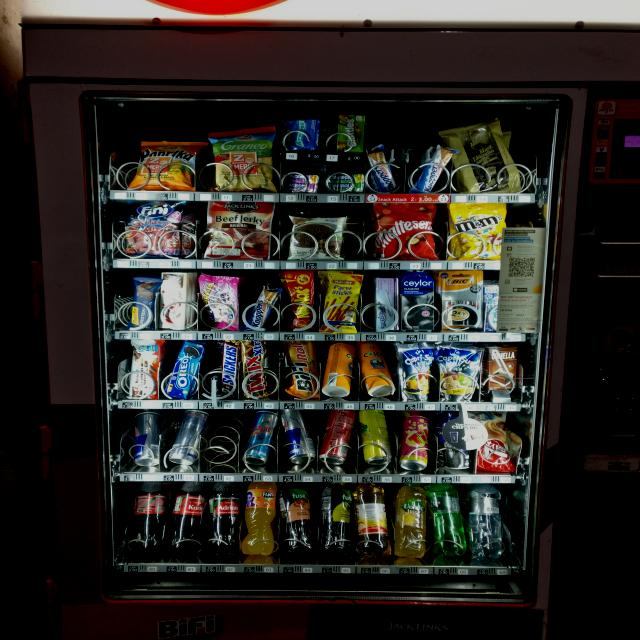7days_croissantschoko_packung_80_1_0000000000003: (478, 411, 515, 471)
airwaves_menthoneucalyptus_riegel_14_1_50173167: (292, 118, 319, 148)
berger_bruensli____: (284, 210, 350, 260)
bifi_roll__50__4251097402635: (284, 340, 320, 398)
bueno___43__4008400320328: (125, 337, 163, 396)
c-swiss_dosenabisicetea__33__9120025930135: (357, 340, 396, 398), (320, 341, 357, 396)
caprisun_multivitamin__20__4000177605004: (392, 342, 437, 401), (434, 342, 478, 400)
coke__dose_33__54491472: (315, 407, 357, 465)
coke__flasche_50__54491472: (130, 478, 167, 553), (168, 480, 205, 553)
coke_zero_flasche_50__5449000131836: (206, 480, 244, 553)
comella_schokodrink__33__7613100037253: (483, 344, 518, 396)
fanta___50__40822938: (242, 481, 278, 554)
fini_galaxymix_packung_100_1_8410525150364: (130, 202, 193, 255)
fini_jellykisses_packung_80_1_8410525116704: (197, 274, 241, 324)
fuse_lemon__50__5449000235947: (316, 482, 355, 557)
fuse_lemon_dose_33__5449000235947: (361, 410, 393, 462)
fuse_peach__50__5449000236623: (275, 482, 316, 558)
jacklinks_beefjerkyorginal__25__4047751730219: (206, 198, 275, 257)
jlbrichard_gauffrechoko__90__5410495002079: (452, 124, 521, 189)
kagi___50__7610046000259: (154, 270, 191, 330)
knoppers_riegel____4035800488808: (411, 146, 454, 192), (367, 147, 399, 191), (246, 286, 278, 328)
lorenz_nicnacs__40__4018077798818: (280, 268, 318, 328)
malburner_partysticks__40__7610200279682: (319, 270, 360, 332)
maltesers___100__5000159023061: (371, 201, 438, 257)
mnms_gelb__45__40111445: (447, 202, 506, 256)
oreo___66__84100733: (164, 338, 203, 396)
powerbar_proteinplusschoko__55__4029679520028: (131, 274, 158, 330)
ramseier_schorle__50__7610057012456: (355, 483, 389, 559)
redbull___33__90162909: (277, 406, 317, 466), (165, 408, 204, 468), (129, 410, 163, 466)
redbull_light__33__90162800: (242, 410, 275, 464)
skittles_sour_riegel_51_1_: (339, 110, 365, 152)
snickers___50__5000159461122: (216, 337, 240, 398)
stimorol_spearmint_riegel_14_1_: (328, 169, 366, 193)
stimorol_wildcherry_riegel_14_1_57060330: (288, 174, 318, 195)
tiki_himbeerbrause_dose_33_1_: (398, 413, 428, 468)
twix___50__5000159459228: (240, 338, 270, 396)
valser_classic__50__76404160: (430, 482, 470, 556)
valser_still__50__7610335002575: (466, 482, 504, 560)
volvic_pinapple__50__305764335648: (390, 483, 431, 558)
zweifel_graneochilli__100__7610095184009: (209, 126, 278, 190)
zweifel_paprika__90__7610095013002: (134, 138, 202, 192)
